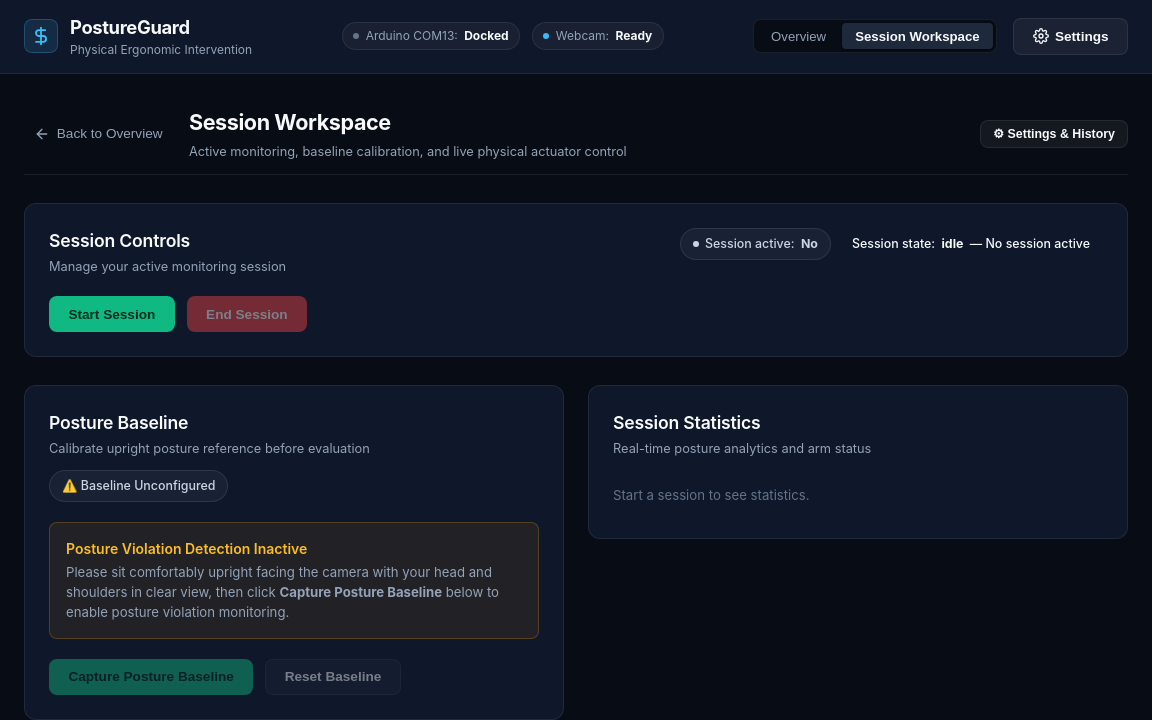
Test: App session dashboard › starts a session without capturing baseline automatically
Step 1. Click the button "Start Session" → click(112, 314), box [49,296,175,332]
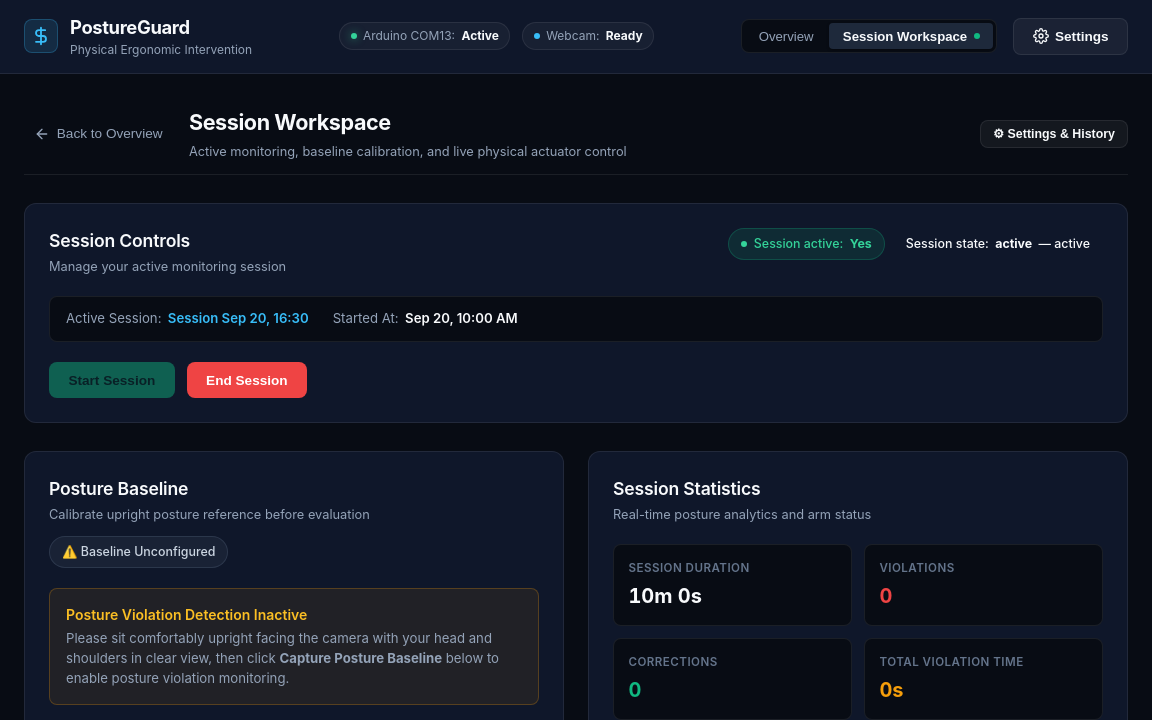
expect the text "Yes" is shown: met, box [850,235,872,253]
expect the text "active" is shown: met, box [995,235,1032,253]
expect the button "Start Session" is disabled: met, box [49,362,175,398]
